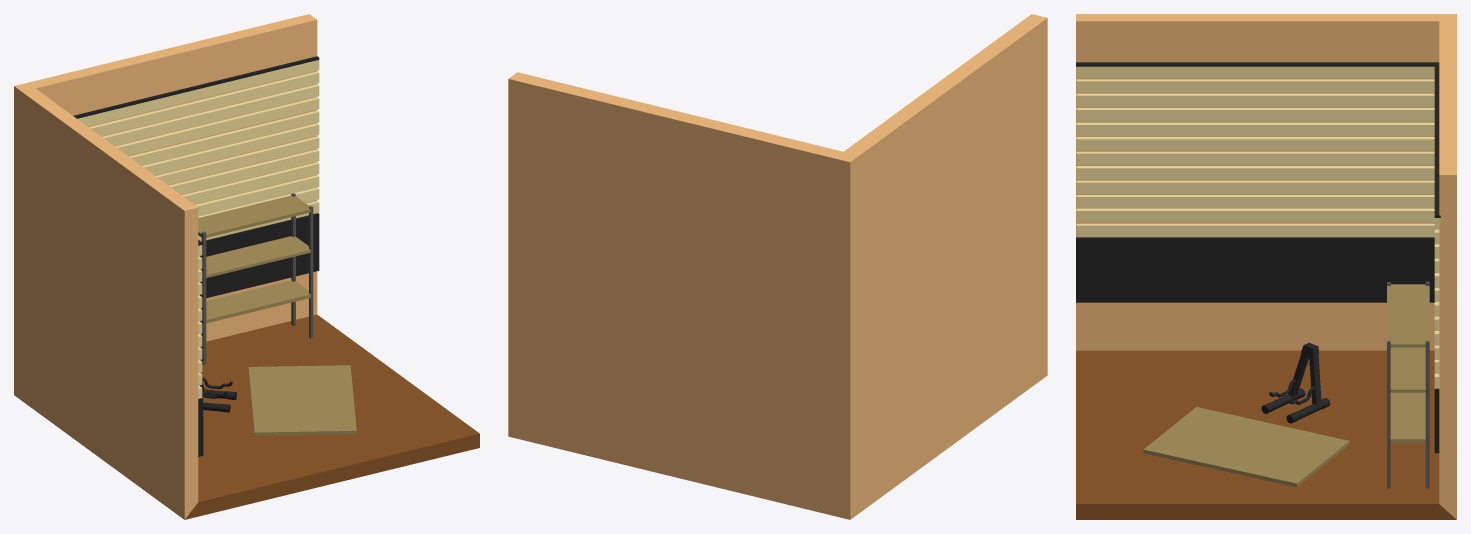
Rendered from world.glb.
3 renders of one model, left to right at view 1: azimuth 30°, elevation 25°; view 2: azimuth 150°, elevation 25°; view 3: azimuth 270°, elevation 25°, orthographic. The views are drawn at different scales.
Parts seen in each view (by area): view 1: room; view 2: room; view 3: room.
Boxes of the visible parts, <box> form: room: <box>14,14,479,519</box>; room: <box>508,14,1047,519</box>; room: <box>1076,14,1456,519</box>.
Size of the model in its own units: 7.59 by 7.59 by 7.59.
